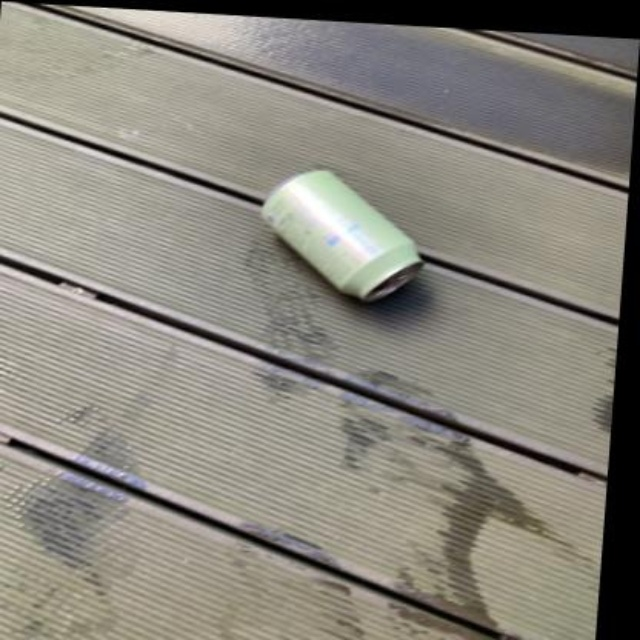trash: (262, 171, 420, 300)
